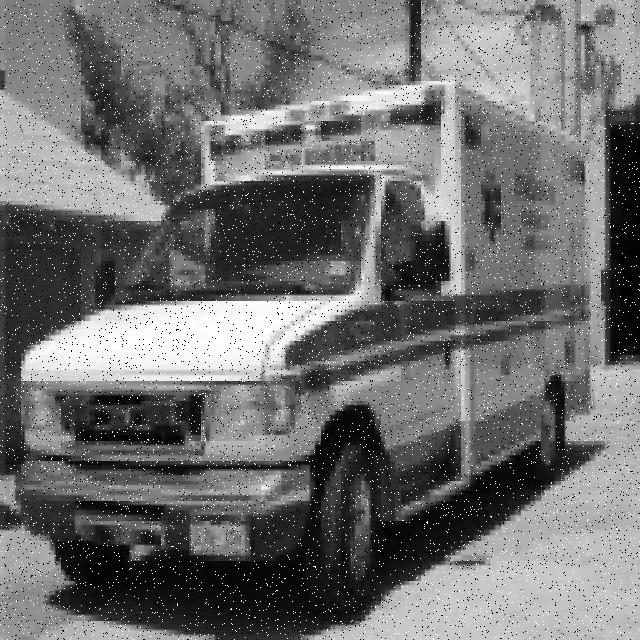Ambulance: (15, 80, 593, 617)
